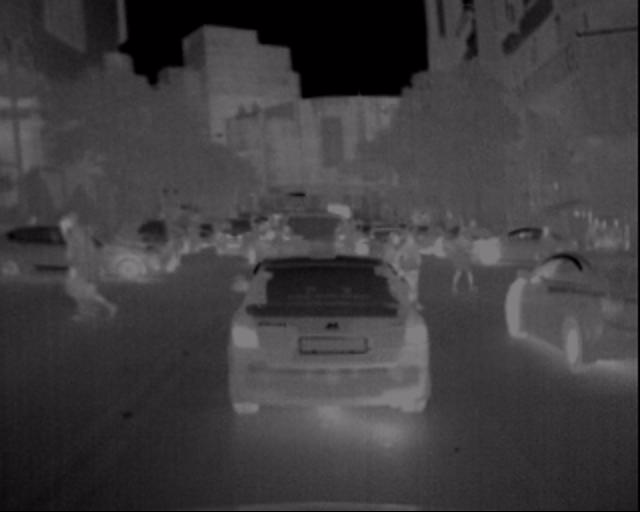person: (41, 204, 107, 342), (65, 219, 123, 333), (386, 221, 433, 318), (248, 215, 292, 316), (262, 218, 304, 318), (517, 214, 559, 299), (376, 228, 416, 317), (571, 205, 639, 256), (329, 220, 365, 309), (446, 213, 481, 301)
